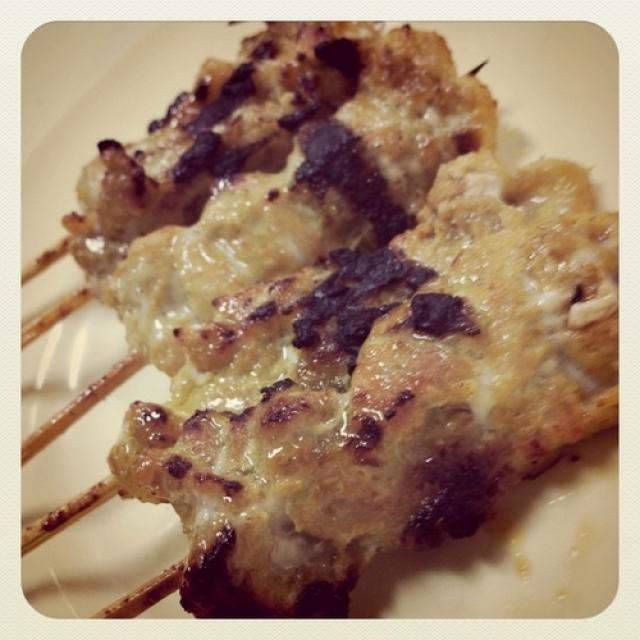牛肉菜式: (37, 28, 606, 599)
